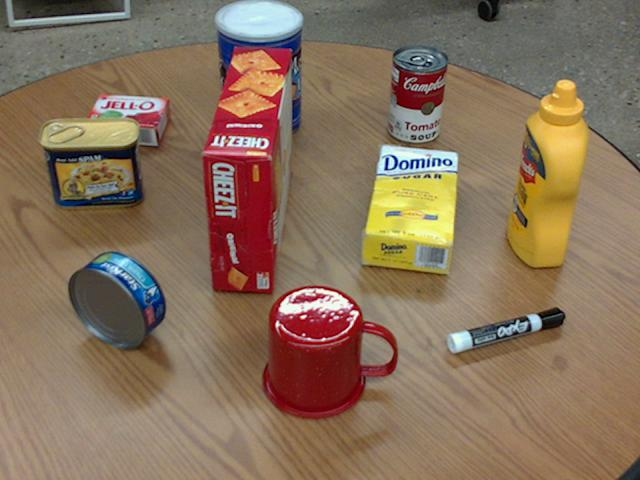cracker_box: (201, 46, 292, 292)
gelatin_box: (82, 93, 168, 143)
large_marker: (447, 307, 564, 353)
master_chef_can: (214, 0, 300, 139)
mug: (263, 284, 396, 418)
mustard_bottle: (507, 81, 587, 266)
potted_meat_can: (39, 116, 142, 206)
sugar_box: (361, 146, 458, 271)
tomato_soup_can: (387, 44, 447, 142)
tuna_fish_can: (69, 252, 166, 347)
